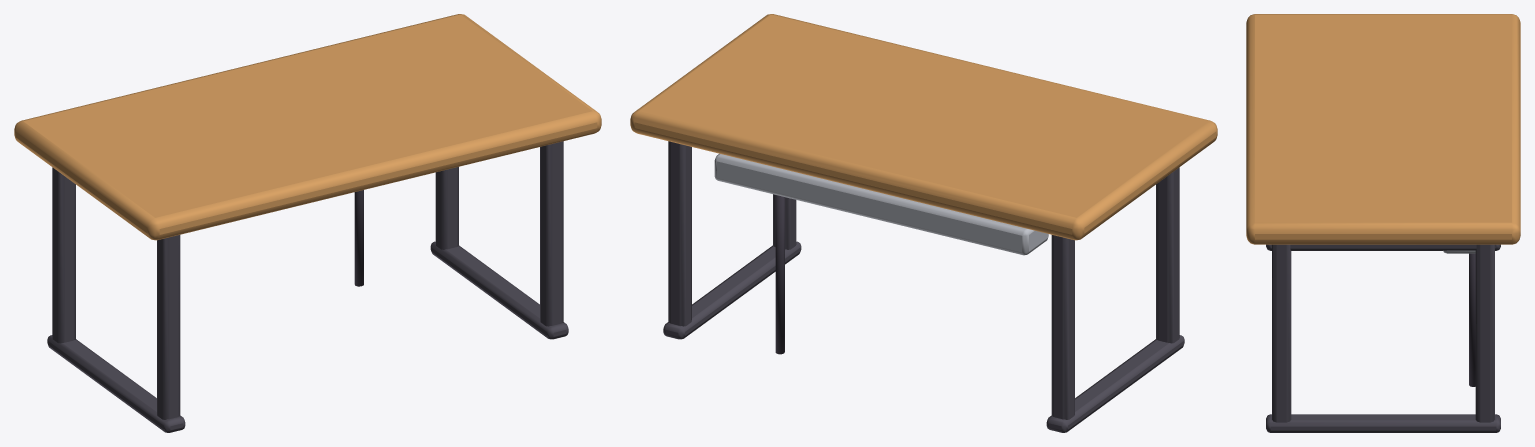
File: desk.glb
3 renders of one model, left to right at view 1: azimuth 30°, elevation 25°; view 2: azimuth 150°, elevation 25°; view 3: azimuth 270°, elevation 25°, orthographic. The views are drawn at different scales.
Parts seen in each view (by area): view 1: desk; view 2: desk; view 3: desk.
Boxes of the visible parts, x1=… form: desk: x1=14, y1=14, x2=601, y2=432; desk: x1=630, y1=14, x2=1217, y2=432; desk: x1=1246, y1=14, x2=1520, y2=432.
Size of the model in its own units: 1.3 by 0.62 by 0.7.
